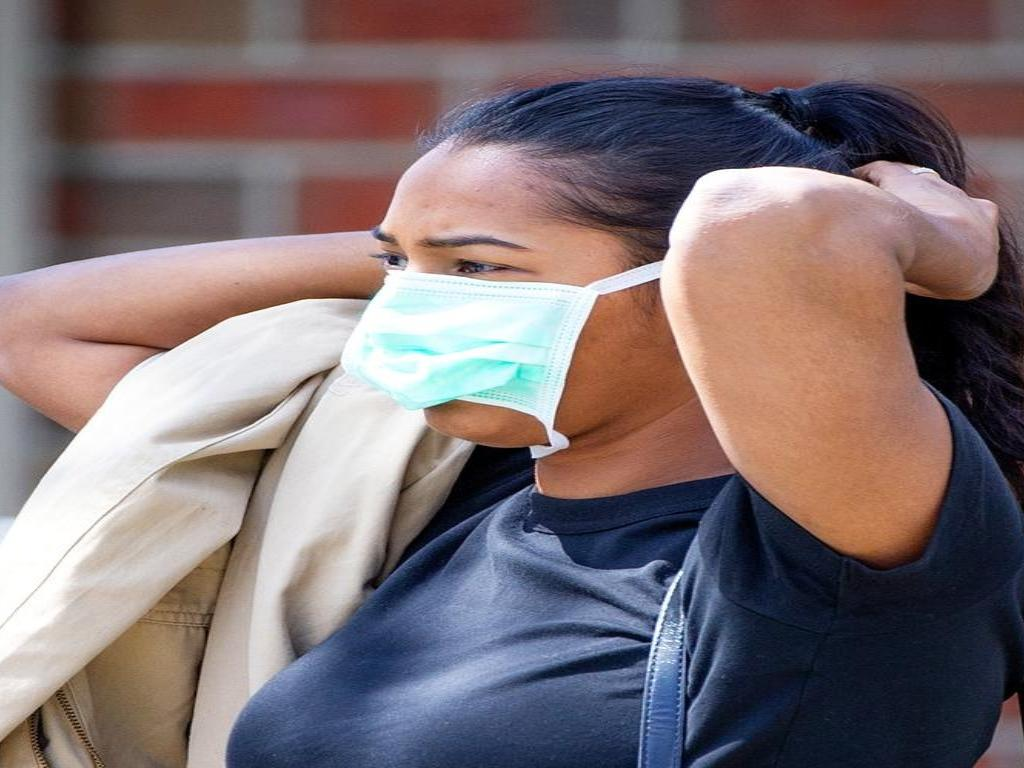mask_weared_incorrect: (333, 75, 849, 465)
